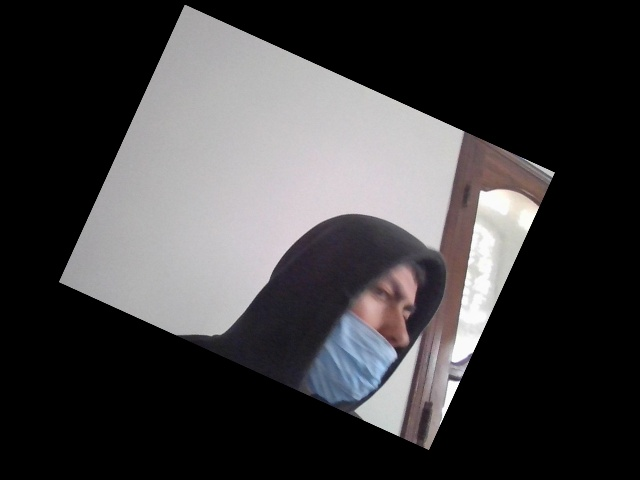mask_weared_incorrect: (320, 248, 430, 416)
